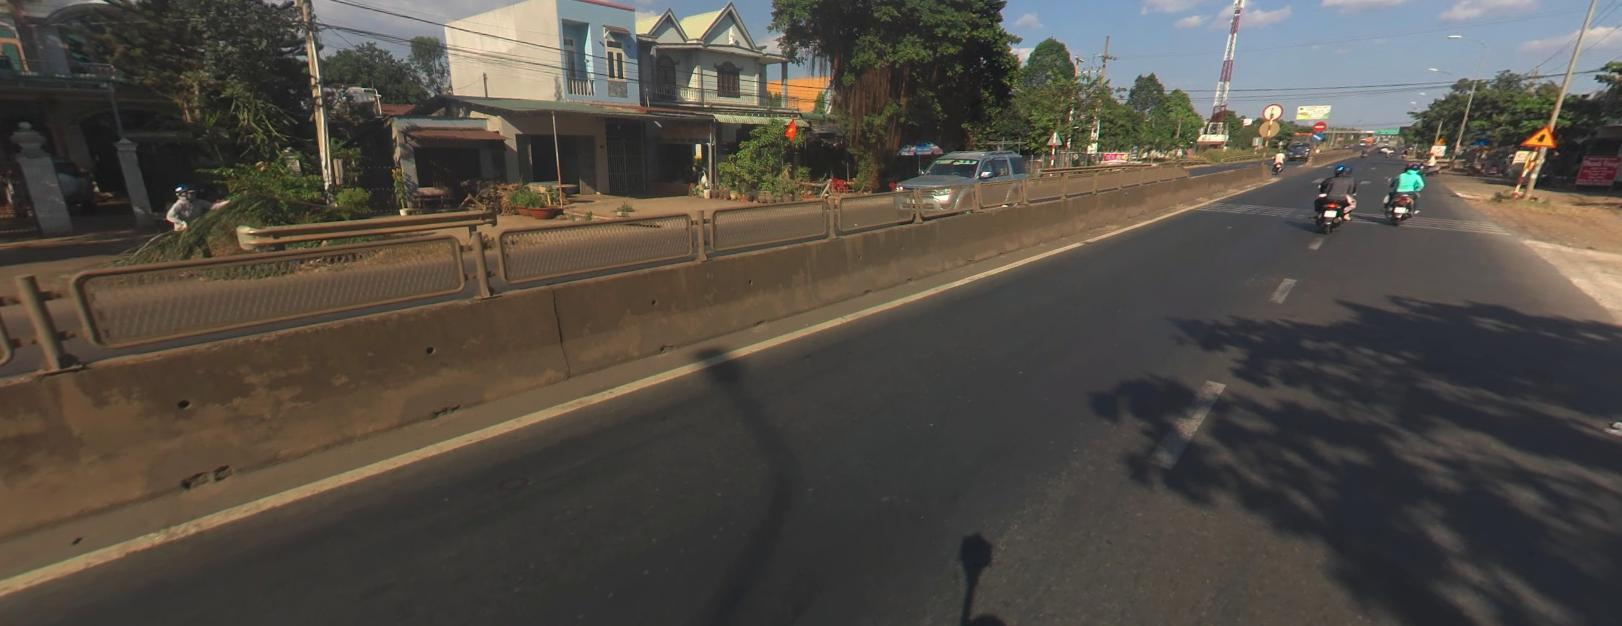Cam nguoc chieu: (1312, 120, 1325, 130), (1312, 120, 1325, 129), (1312, 120, 1324, 129)
Hieu lenh: (1310, 130, 1323, 140), (1311, 130, 1323, 139), (1311, 132, 1322, 139)
Nguy hiem: (1520, 124, 1557, 147), (1521, 123, 1556, 146), (1521, 124, 1555, 145), (1433, 135, 1445, 143), (1433, 136, 1445, 144)
